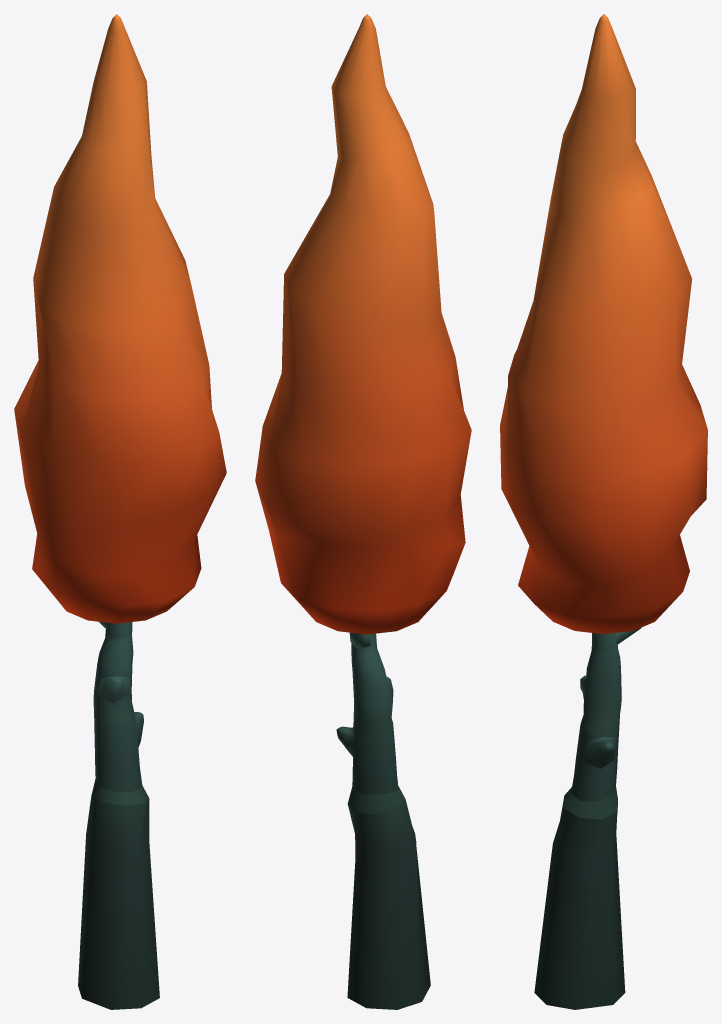
The model's file is TREE_02.fbx.
The picture shows the model from 3 angles, left to right: view 1: azimuth 30°, elevation 25°; view 2: azimuth 150°, elevation 25°; view 3: azimuth 270°, elevation 25°; orthographic projection.
Visible parts, largest first — view 1: TREE_MAIN_LEAVES, TREE02; view 2: TREE_MAIN_LEAVES, TREE02; view 3: TREE_MAIN_LEAVES, TREE02.
Part boxes in pixels (box(x1,y1,x2,y2)): TREE_MAIN_LEAVES: box(14, 14, 226, 623); TREE02: box(78, 621, 159, 1009); TREE_MAIN_LEAVES: box(255, 14, 471, 634); TREE02: box(336, 632, 430, 1009); TREE_MAIN_LEAVES: box(500, 14, 707, 634); TREE02: box(534, 627, 641, 1009).
Size of the model in its own units: 1.55 by 7.7 by 1.48.
